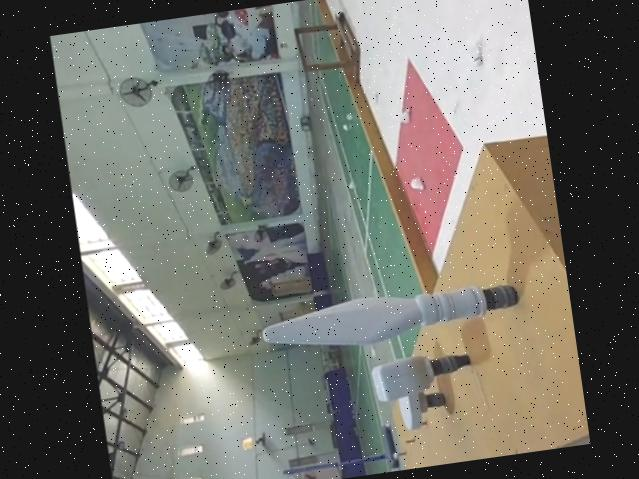Fist: (365, 346, 480, 409)
Hand: (396, 383, 451, 432)
Sph: (258, 271, 531, 366)
